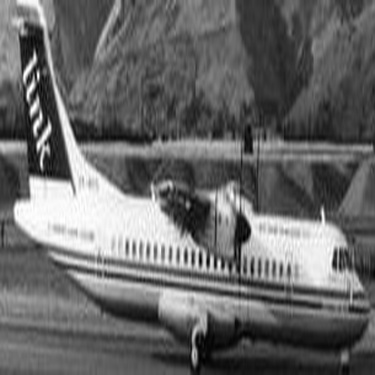airplane: (4, 3, 369, 369)
